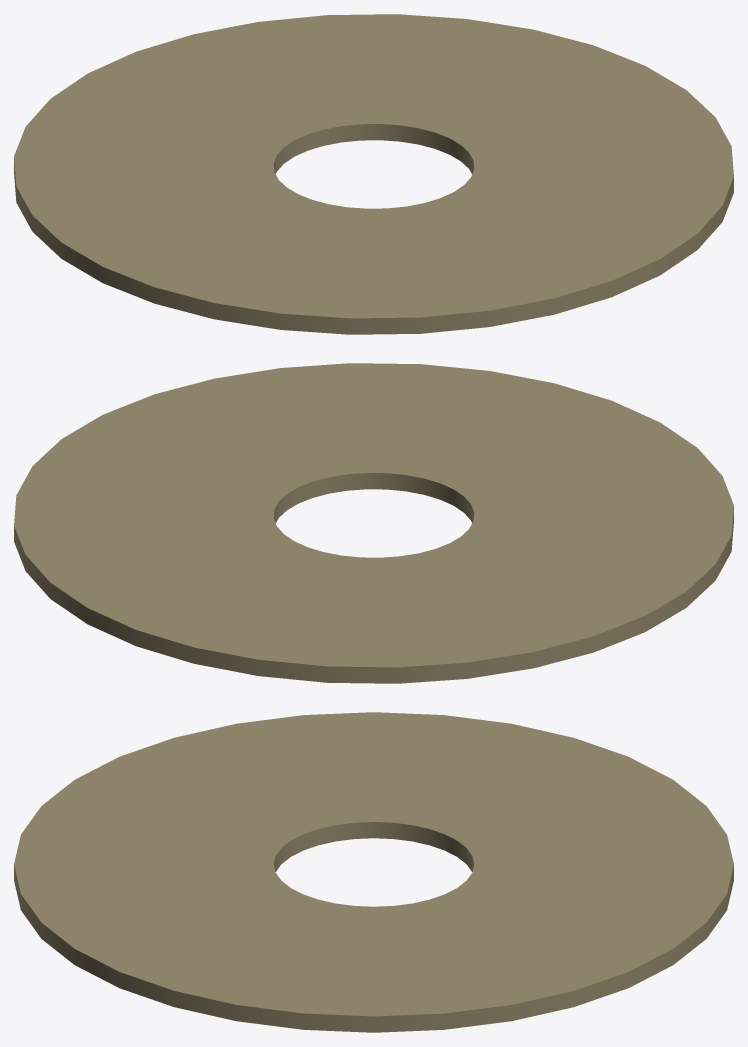
Rendered from CeilingWithHole.fbx.
3 renders of one model, top to bottom at view 1: azimuth 30°, elevation 25°; view 2: azimuth 150°, elevation 25°; view 3: azimuth 270°, elevation 25°, orthographic.
Parts seen in each view (by area): view 1: Cylinder; view 2: Cylinder; view 3: Cylinder.
Part boxes in pixels (x1,y1,x2,y2): Cylinder: (14,14,733,334); Cylinder: (14,363,733,683); Cylinder: (14,712,733,1032).
Bounding box in the file's own units: 2000 × 50 × 2000.
